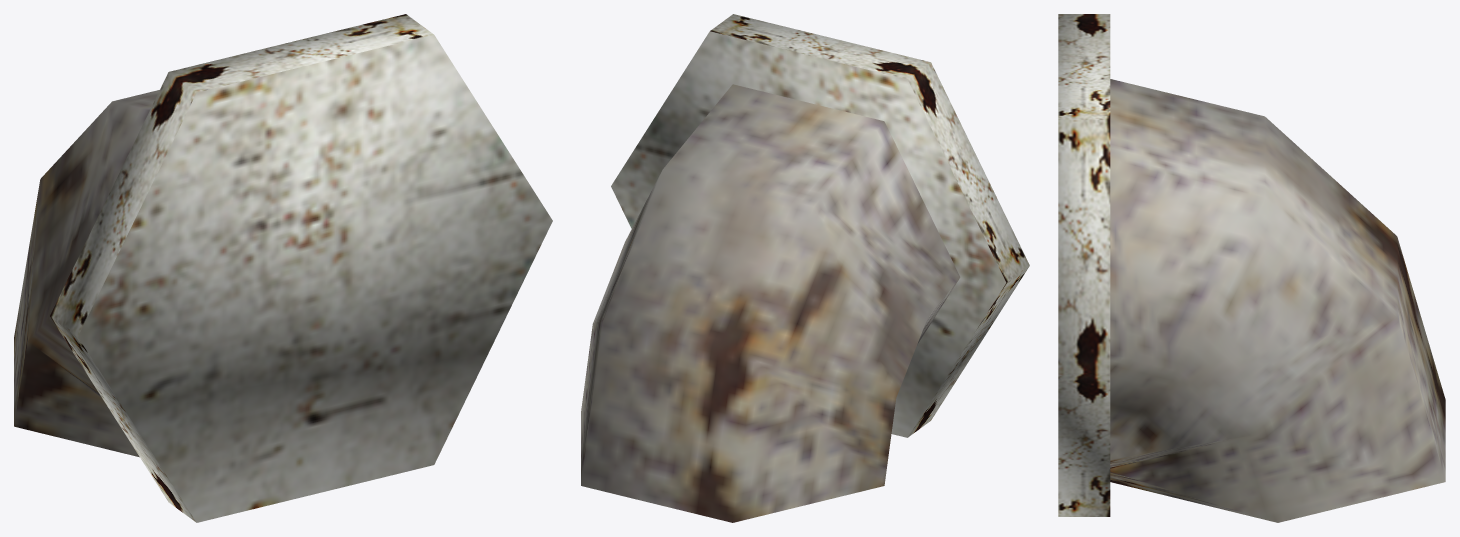
Rendered from large_white_1_elbow.fbx.
3 views of the same model, side by side, from view 1: azimuth 30°, elevation 25°; view 2: azimuth 150°, elevation 25°; view 3: azimuth 270°, elevation 25° (orthographic). The views are drawn at different scales.
Visible parts, largest first — view 1: polySurface655; view 2: polySurface655; view 3: polySurface655.
Boxes of the visible parts, <box> form: polySurface655: <box>14,14,552,522</box>; polySurface655: <box>581,14,1029,522</box>; polySurface655: <box>1058,14,1445,522</box>.
Bounding box in the file's own units: 1.3 × 1.13 × 1.
